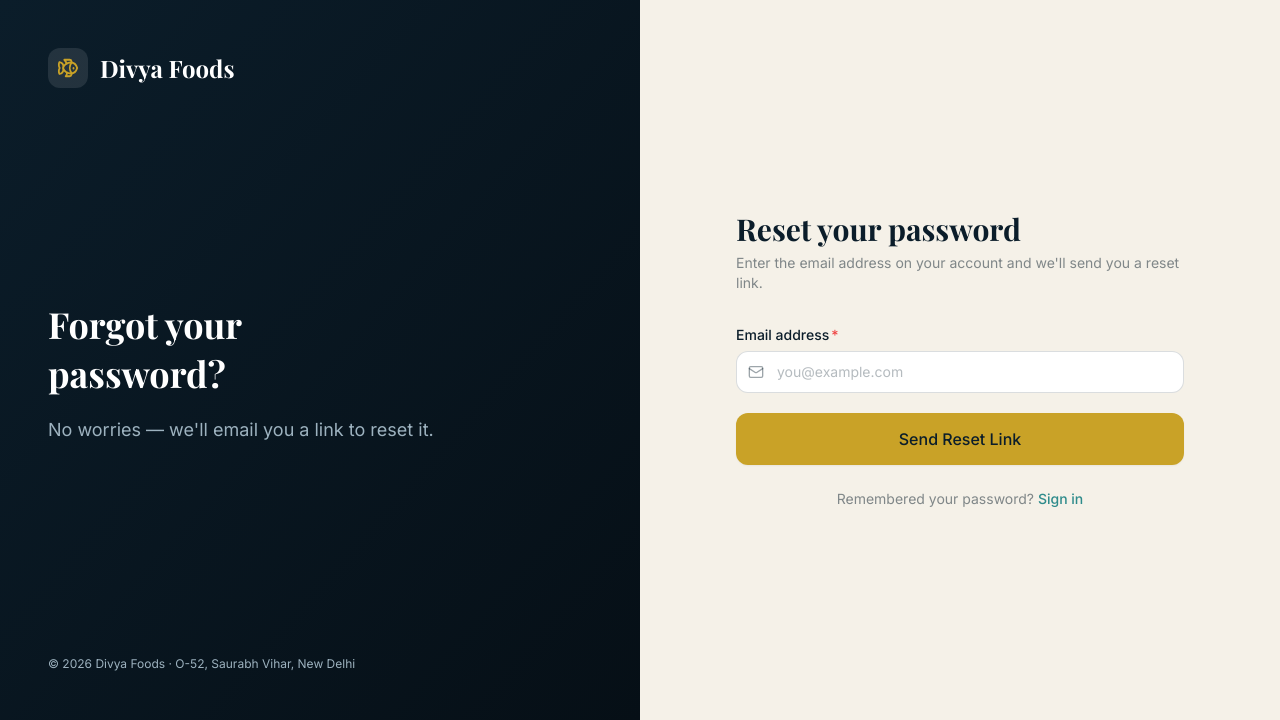
Test: ForgotPasswordPage › shows a validation error for an empty email
Click the button "Send Reset Link": coordinates (960, 439) [736,413,1184,465]
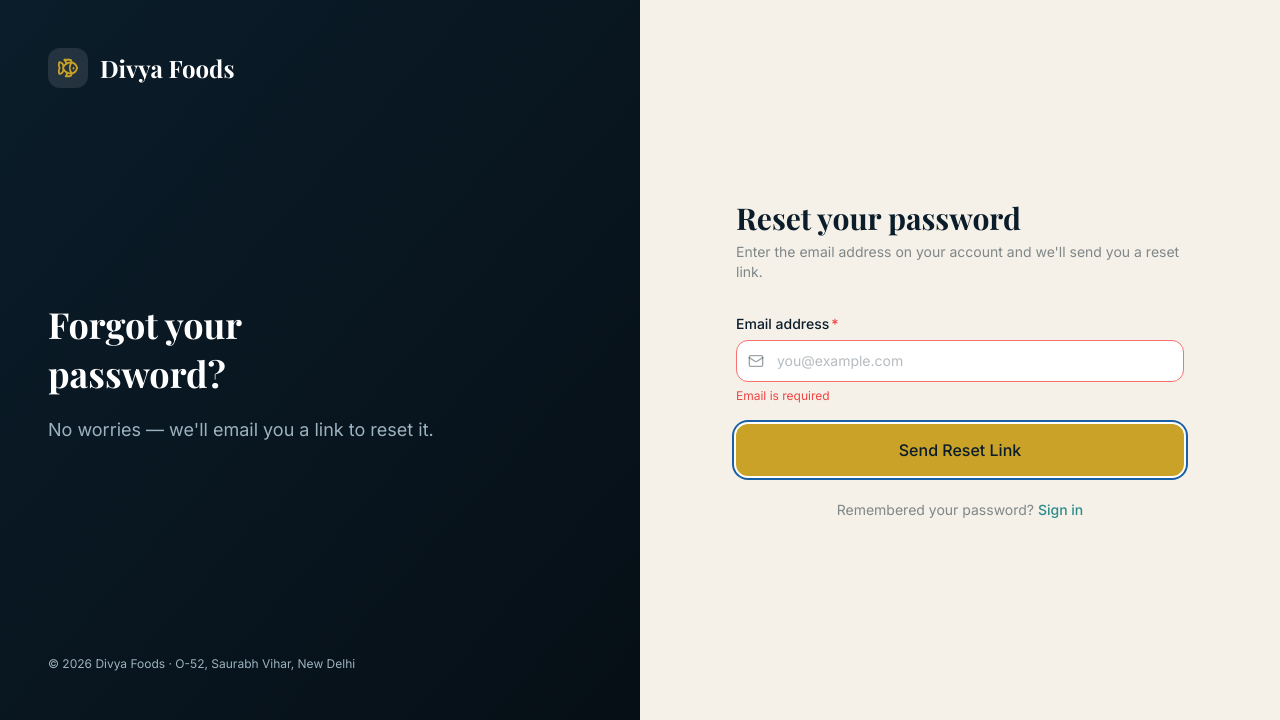
Expected: the text "Email is required" is shown, [736,388,830,403]
